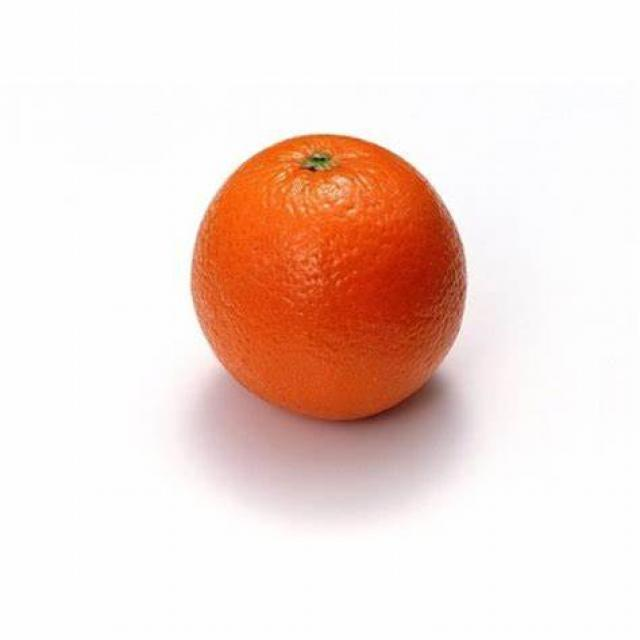Orange: (191, 132, 469, 420)
